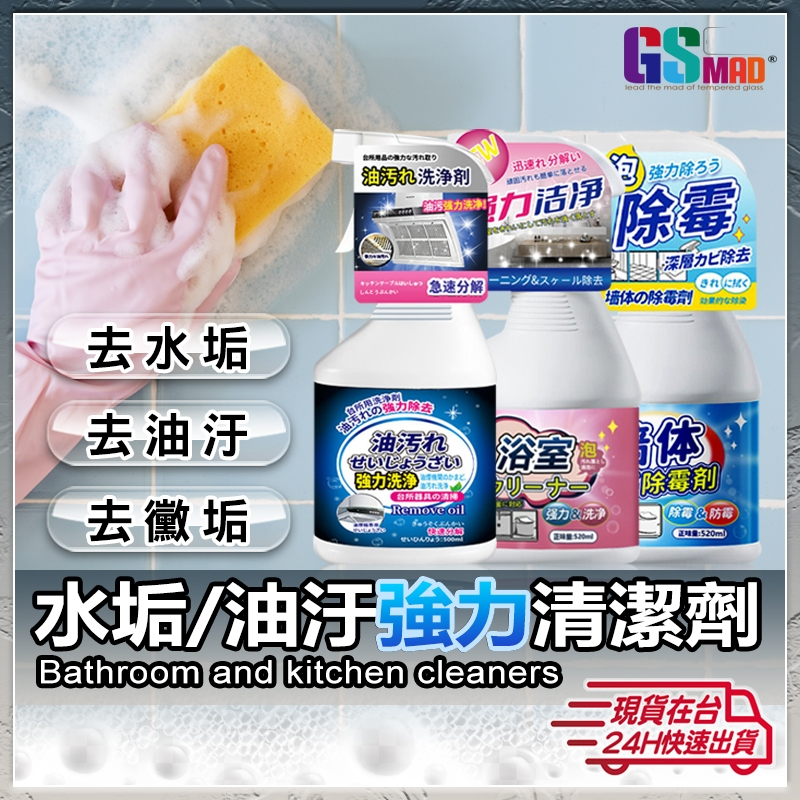cleaner: (436, 131, 649, 567), (308, 123, 503, 565), (580, 130, 772, 567)
